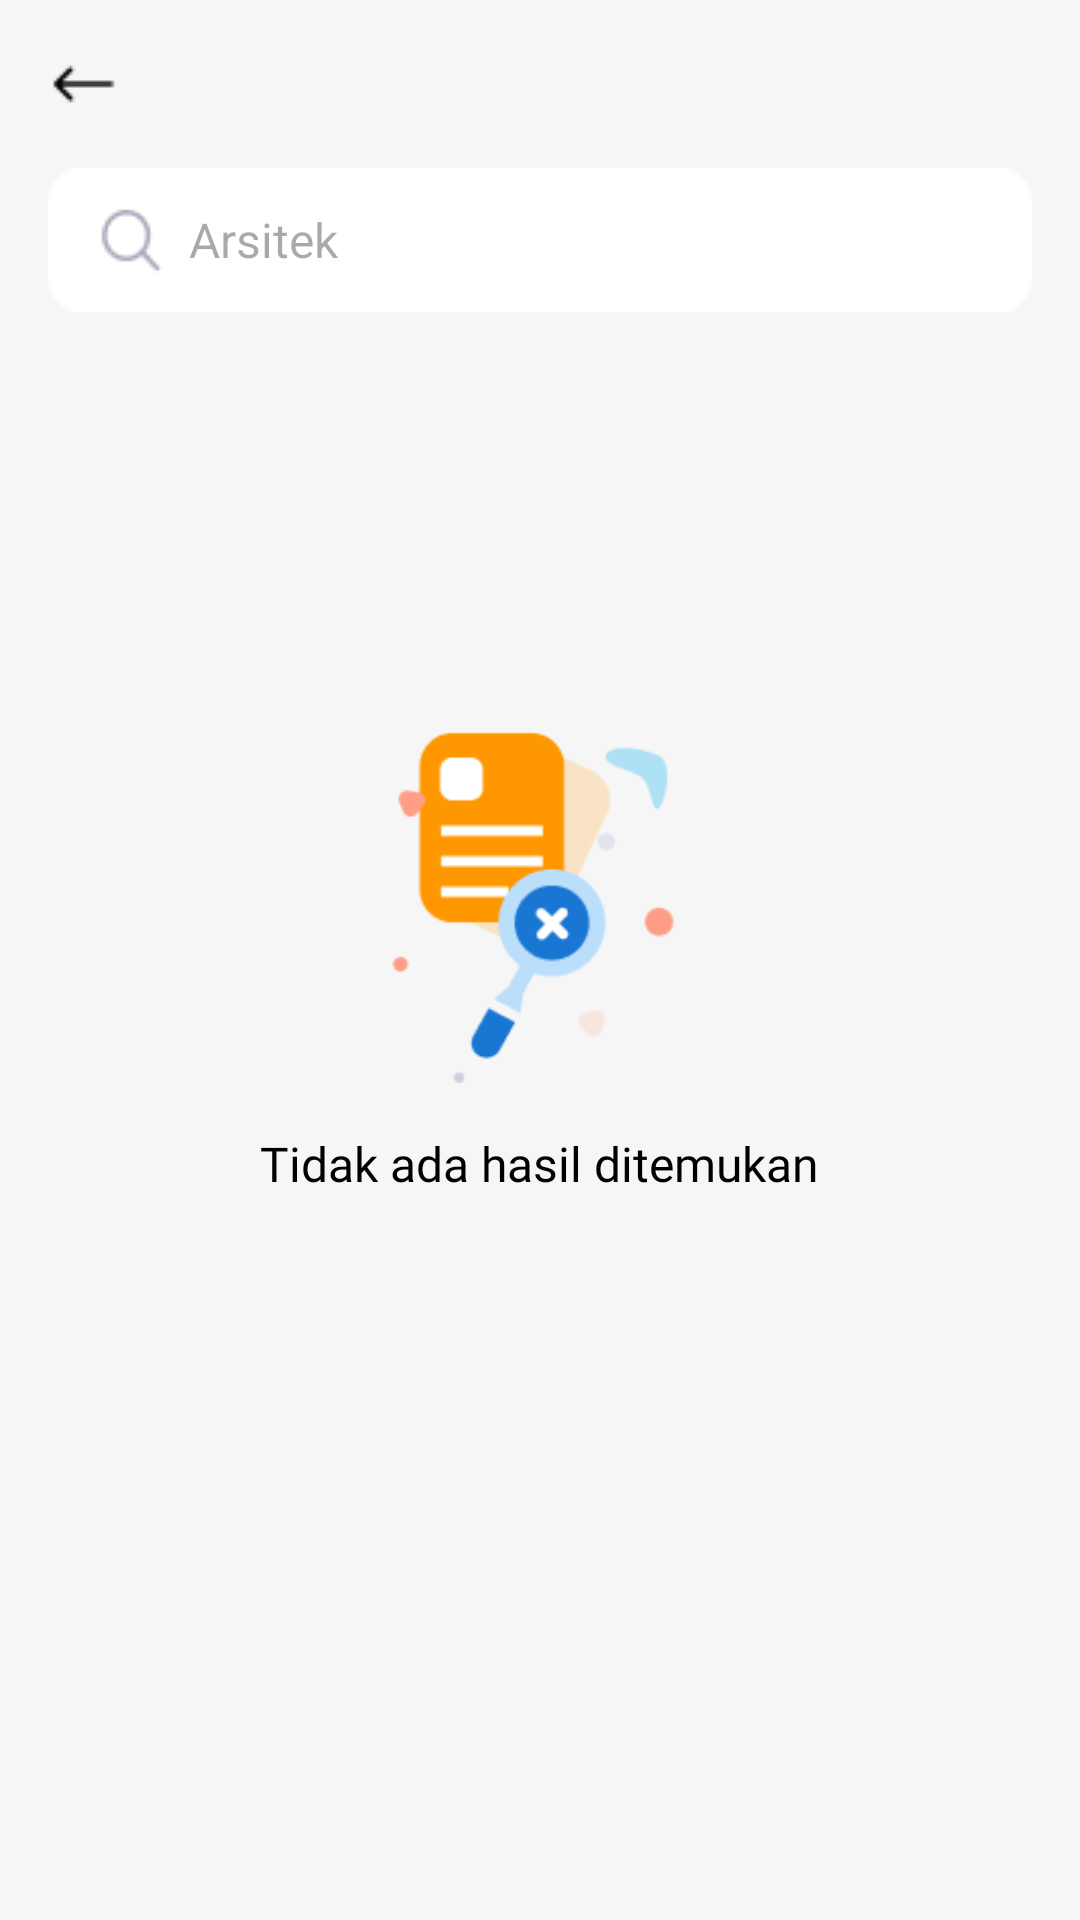

Icons on this 1080w x 1920h Android screen, each with the point to tap as point (x, y):
Back: point (84, 84)
